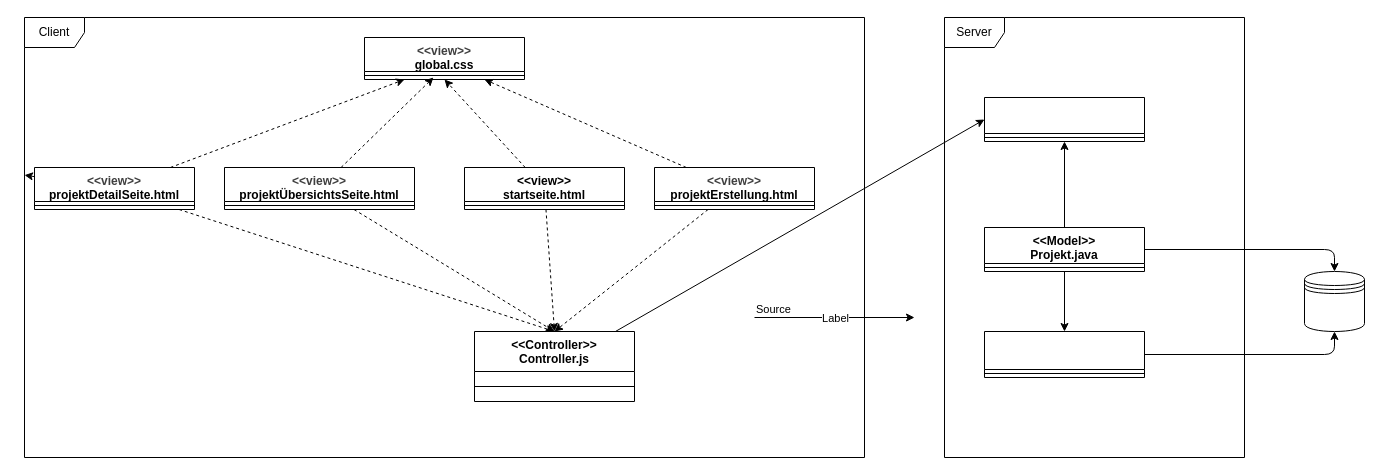
Some shapes in this 1382 by 475 pixel diagram are drawn without their labels. The shapes that lost their labels are listed below. From the top down, each one's centre as x and y in pixels, then its label:
At point (1064, 119): "<<Model>> API .java".
At point (1334, 301): "DB".
At point (1064, 354): "<<Model>> ZeitManagement.java".
